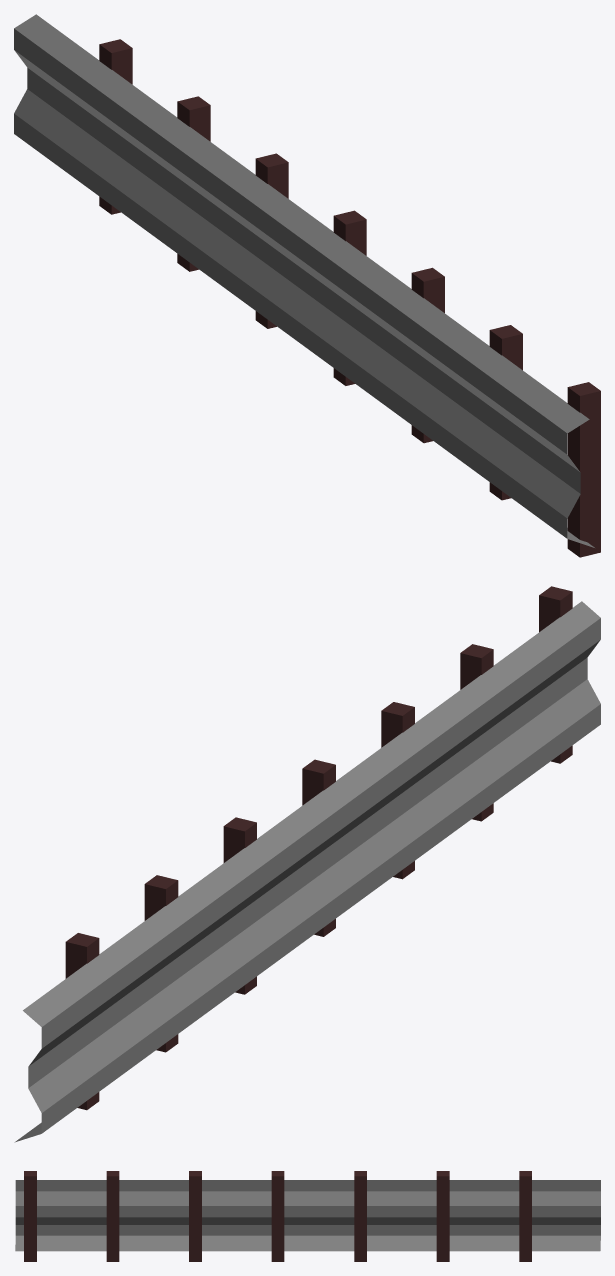
The model's file is guardrail.fbx.
3 renders of one model, top to bottom at view 1: azimuth 30°, elevation 25°; view 2: azimuth 150°, elevation 25°; view 3: azimuth 270°, elevation 25°, orthographic. The views are drawn at different scales.
Parts seen in each view (by area): view 1: Plane; view 2: Plane; view 3: Plane.
Boxes of the visible parts, x1,y1,x2,y2 form: Plane: (14,14,600,557); Plane: (14,586,600,1142); Plane: (15,1171,600,1261).
Bounding box in the file's own units: 60.86 × 228 × 1417.
